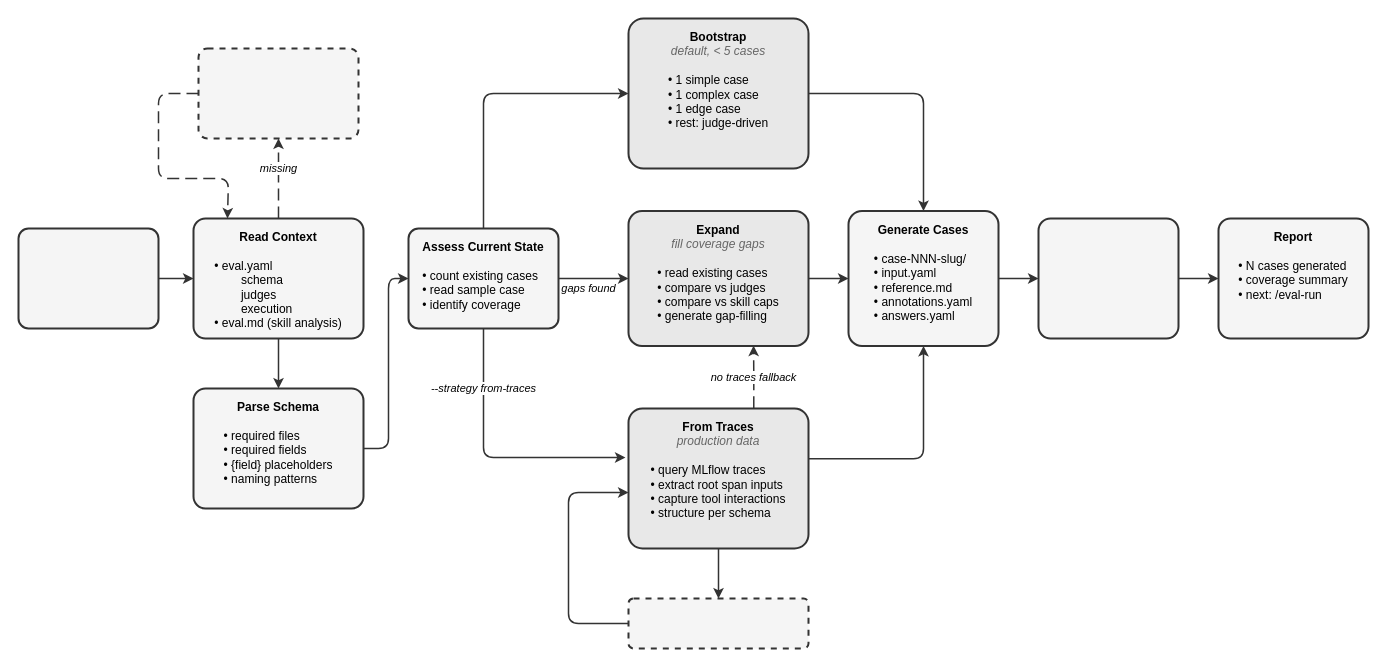
The diagram is 1386 pixels wide and 666 high, and some of its shapes have lost their labels. Each missing label, with the box of its shape:
/eval-dataset • --count N • --strategy • --config: (17, 227, 159, 329)
MLflow Server: (627, 597, 809, 649)
No eval.yaml? invoke /eval-analyze: (197, 47, 359, 139)
Validate • schema match • {field} placeholders • file completeness: (1037, 217, 1179, 339)
